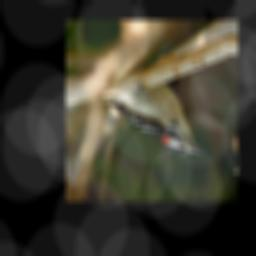Woodpecker: (85, 74, 204, 167)
